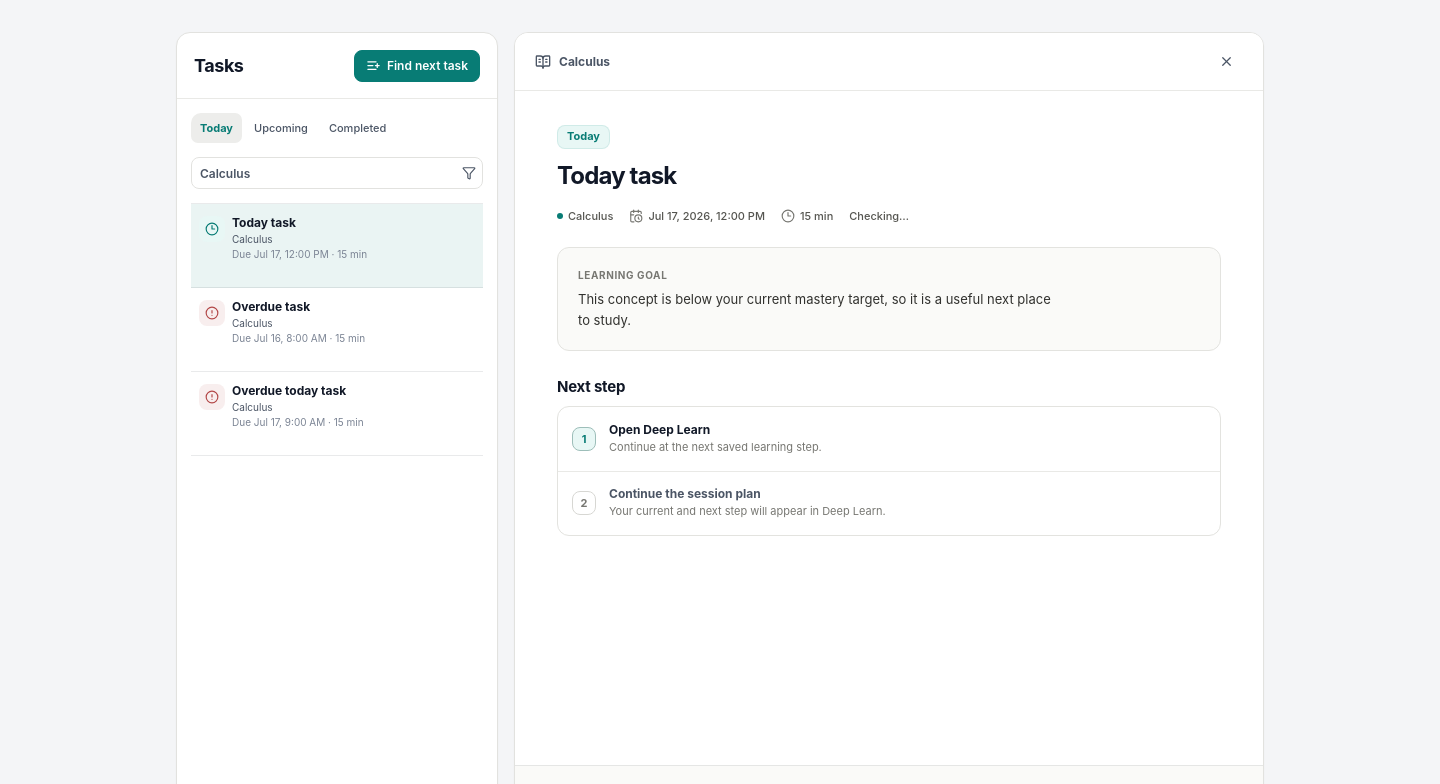
Test: LearningFeedPage autonomous learning › keeps overdue work in Today and separates only future work into Upcoming
Expected: the text "Today task" is shown, x1=232 y1=215 x2=296 y2=230
Expected: the text "Overdue task" is shown, x1=232 y1=299 x2=310 y2=314
Click the button "Upcoming": (281, 128) x1=245 y1=113 x2=317 y2=143
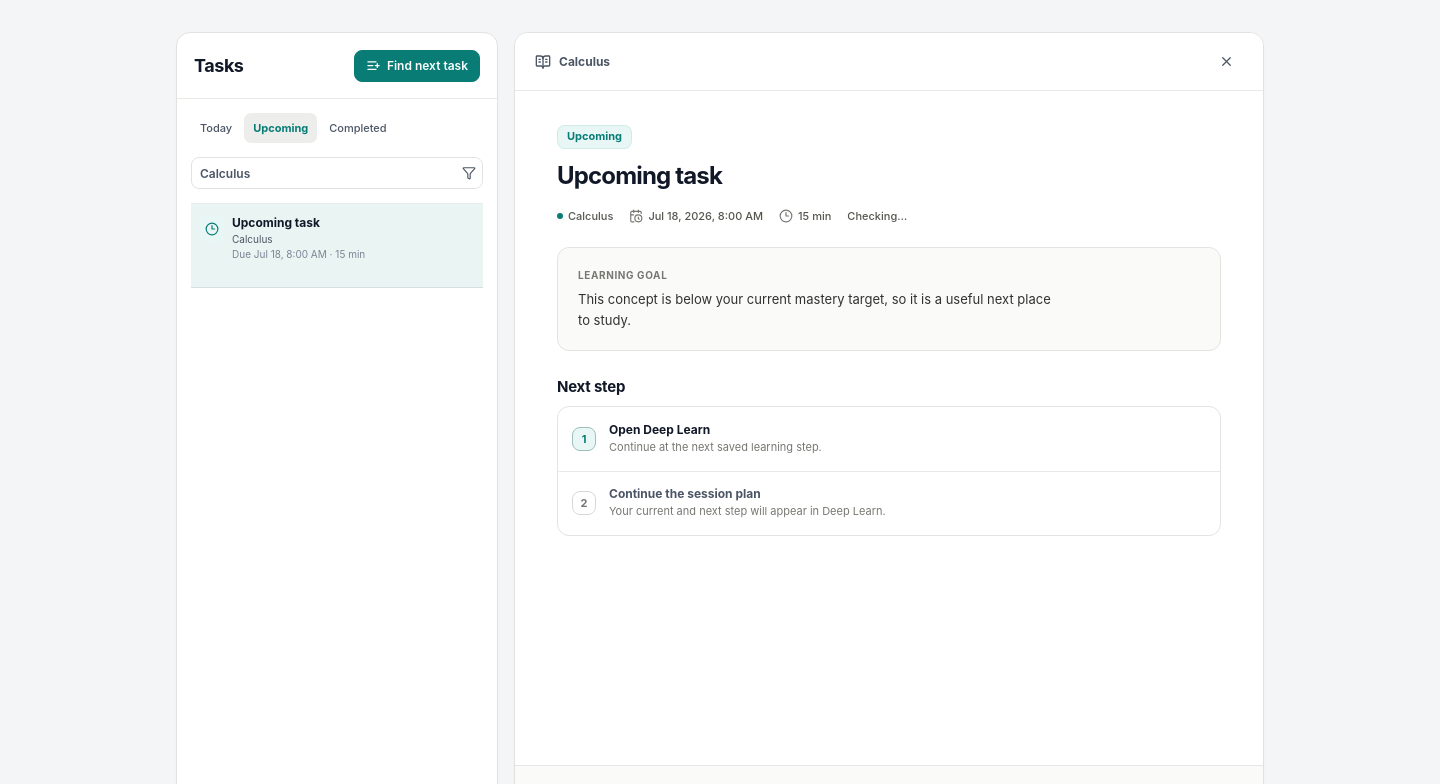
Now the text "Upcoming task" is shown, box x1=232 y1=215 x2=320 y2=230
Now the button "Today task" is gone
Now the button "Overdue task" is gone
